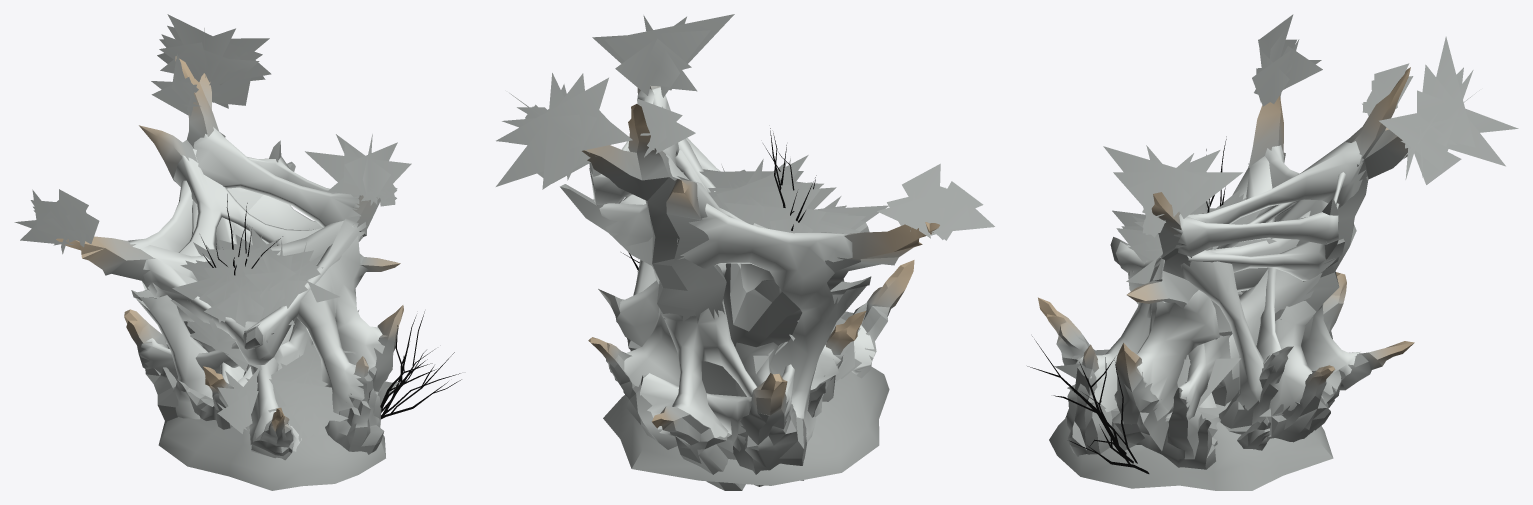
The picture shows the model from 3 angles, left to right: view 1: azimuth 30°, elevation 25°; view 2: azimuth 150°, elevation 25°; view 3: azimuth 270°, elevation 25°; orthographic projection. The views are drawn at different scales.
Parts seen in each view (by area): view 1: G:\FFXIV-MapTools\exports\w1f3\bg\ffxiv\wil_w1\fld\w1f3\bgpa (×4); view 2: G:\FFXIV-MapTools\exports\w1f3\bg\ffxiv\wil_w1\fld\w1f3\bgpa (×4); view 3: G:\FFXIV-MapTools\exports\w1f3\bg\ffxiv\wil_w1\fld\w1f3\bgpa (×4).
Boxes of the visible parts, x1=… form: G:\FFXIV-MapTools\exports\w1f3\bg\ffxiv\wil_w1\fld\w1f3\bgpa (×4): x1=14, y1=14, x2=461, y2=490; G:\FFXIV-MapTools\exports\w1f3\bg\ffxiv\wil_w1\fld\w1f3\bgpa (×4): x1=496, y1=14, x2=994, y2=490; G:\FFXIV-MapTools\exports\w1f3\bg\ffxiv\wil_w1\fld\w1f3\bgpa (×4): x1=1027, y1=14, x2=1518, y2=490.
Bounding box in the file's own units: 15.66 × 14.53 × 15.48.
